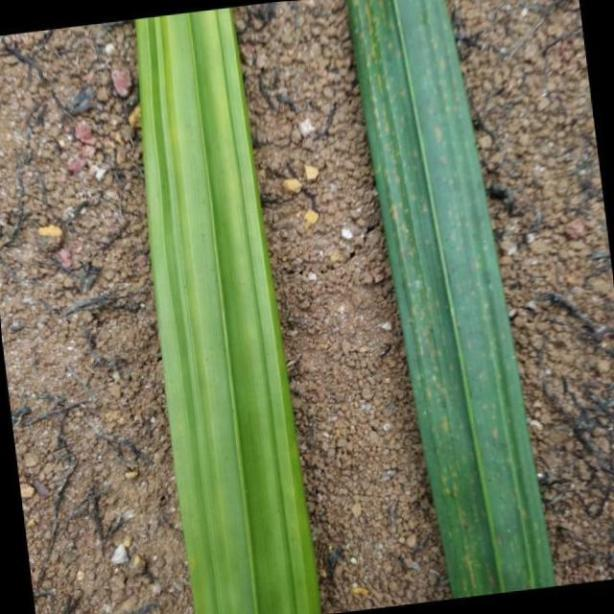nitrogen: (347, 0, 561, 603), (134, 1, 319, 614)
